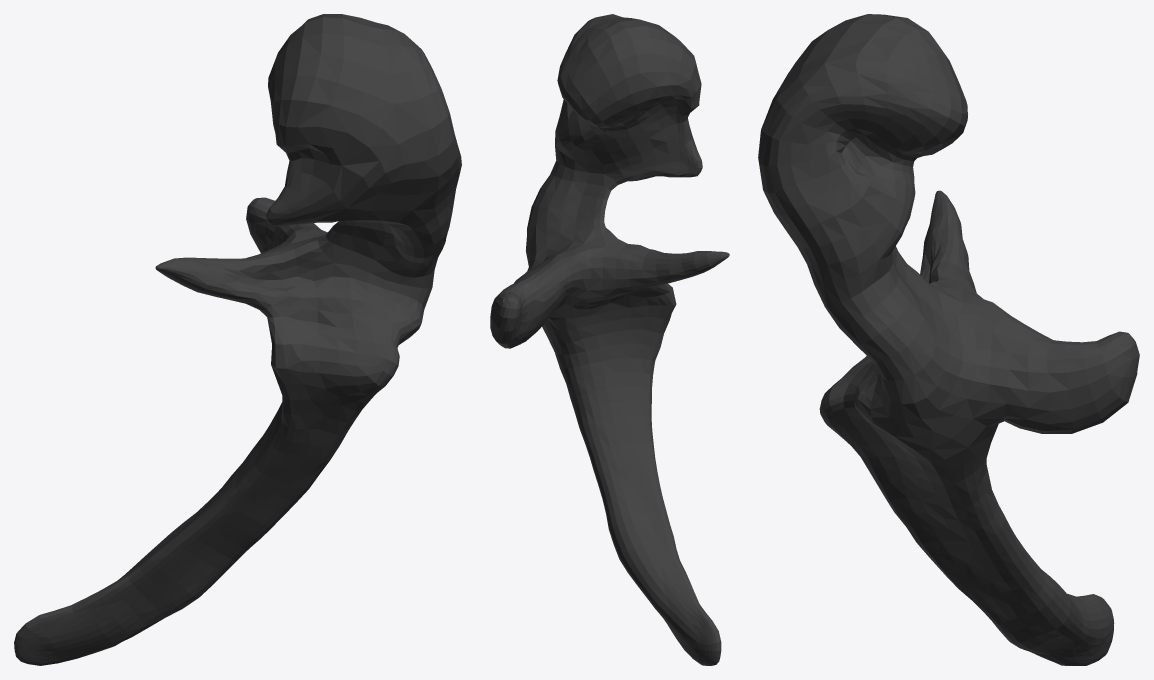
File: OSSICLE_malleus_L.glb
3 views of the same model, side by side, from view 1: azimuth 30°, elevation 25°; view 2: azimuth 150°, elevation 25°; view 3: azimuth 270°, elevation 25° (orthographic). The views are drawn at different scales.
Parts seen in each view (by area): view 1: OSSICLE_malleus_L; view 2: OSSICLE_malleus_L; view 3: OSSICLE_malleus_L.
Boxes of the visible parts, <box> form: OSSICLE_malleus_L: <box>14,14,461,665</box>; OSSICLE_malleus_L: <box>490,14,729,665</box>; OSSICLE_malleus_L: <box>758,14,1139,665</box>.
Size of the model in its own units: 1.37 by 2.69 by 1.25.
1 material, 1 textured.
